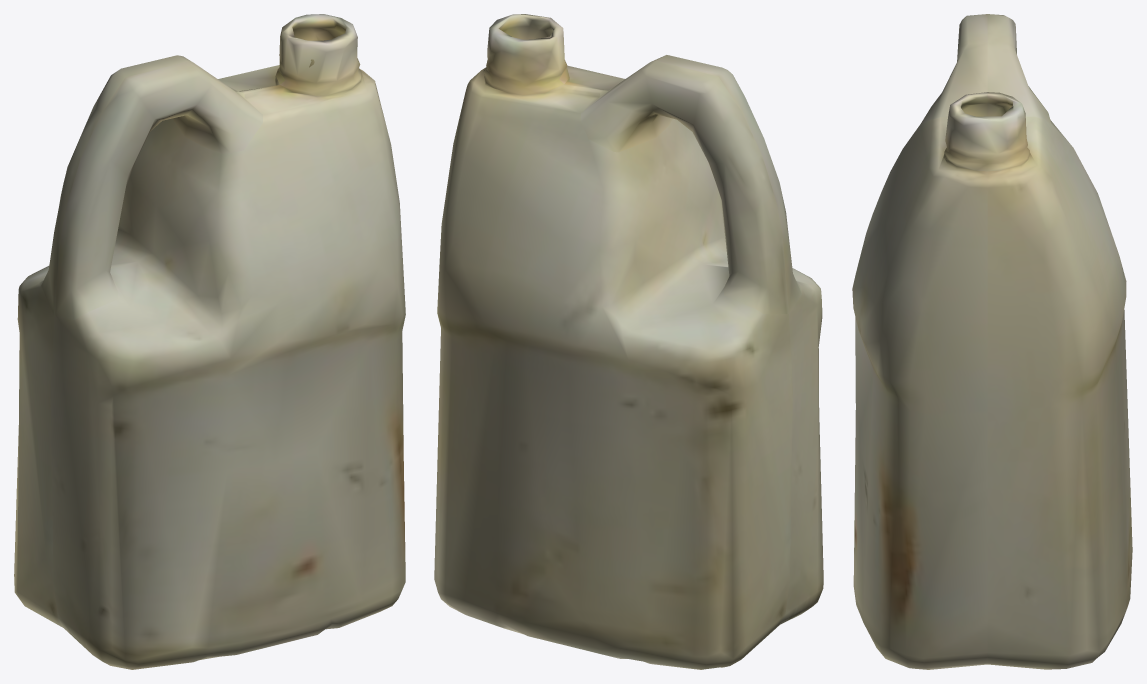
The model's file is plastic_bottle_gallon.glb.
The picture shows the model from 3 angles, left to right: view 1: azimuth 30°, elevation 25°; view 2: azimuth 150°, elevation 25°; view 3: azimuth 270°, elevation 25°; orthographic projection.
Visible parts, largest first — view 1: plastic_bottle_gallon; view 2: plastic_bottle_gallon; view 3: plastic_bottle_gallon.
Boxes of the visible parts, <box> form: plastic_bottle_gallon: <box>14,14,405,669</box>; plastic_bottle_gallon: <box>434,14,823,669</box>; plastic_bottle_gallon: <box>852,14,1132,669</box>.
Size of the model in its own units: 0.1661 by 0.2743 by 0.126.
Materials: 1 (1 with a texture image).
